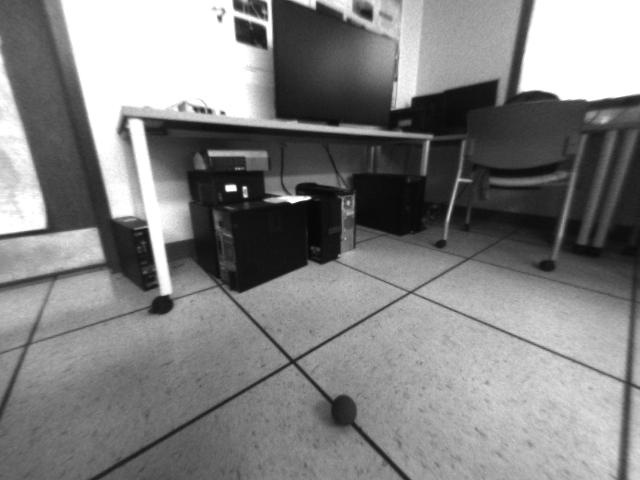dogtoy: (325, 382, 363, 434)
